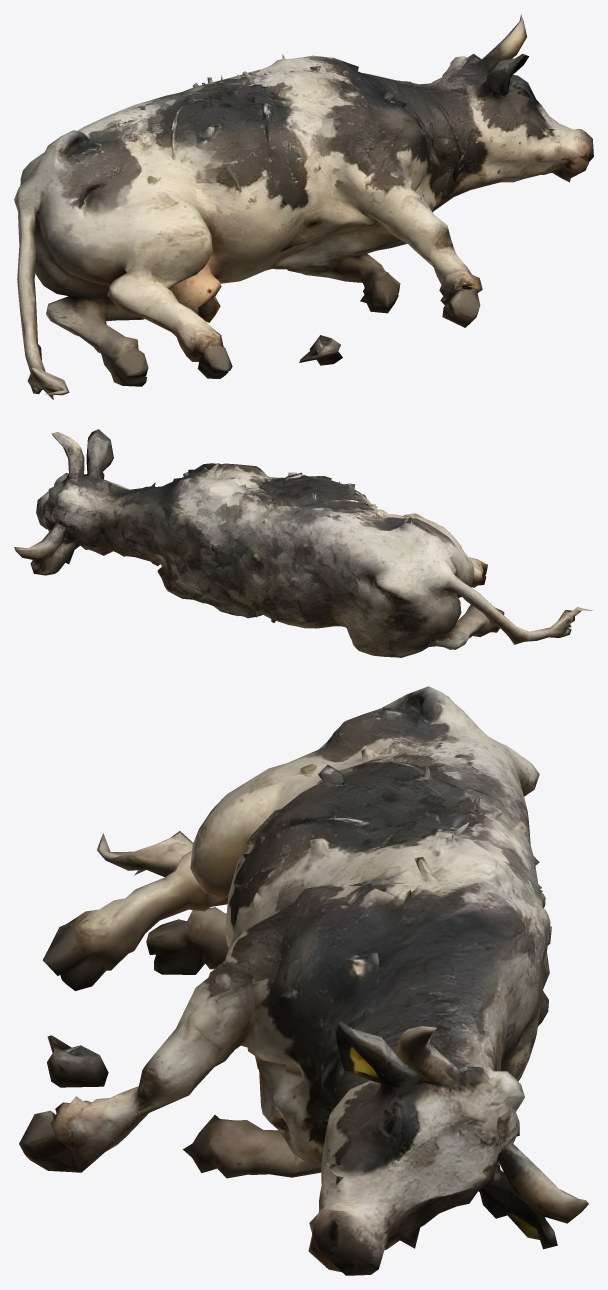
File: ul_cow_dead.glb
3 views of the same model, one above another, from view 1: azimuth 30°, elevation 25°; view 2: azimuth 150°, elevation 25°; view 3: azimuth 270°, elevation 25° (orthographic). The views are drawn at different scales.
Visible parts, largest first — view 1: tripo_node_cbc71ac3-a777-400e-aa95-83a42f10799e; view 2: tripo_node_cbc71ac3-a777-400e-aa95-83a42f10799e; view 3: tripo_node_cbc71ac3-a777-400e-aa95-83a42f10799e.
Boxes of the visible parts, x1,y1,x2,y2 form: tripo_node_cbc71ac3-a777-400e-aa95-83a42f10799e: [14, 14, 593, 399]; tripo_node_cbc71ac3-a777-400e-aa95-83a42f10799e: [14, 429, 592, 657]; tripo_node_cbc71ac3-a777-400e-aa95-83a42f10799e: [19, 686, 588, 1275].
Bounding box in the file's own units: 1 × 0.3041 × 0.5003.
1 material, 1 textured.
